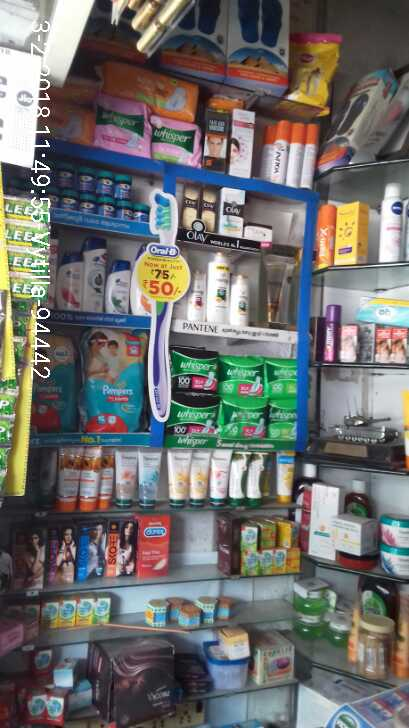vicks: (49, 164, 147, 222)
